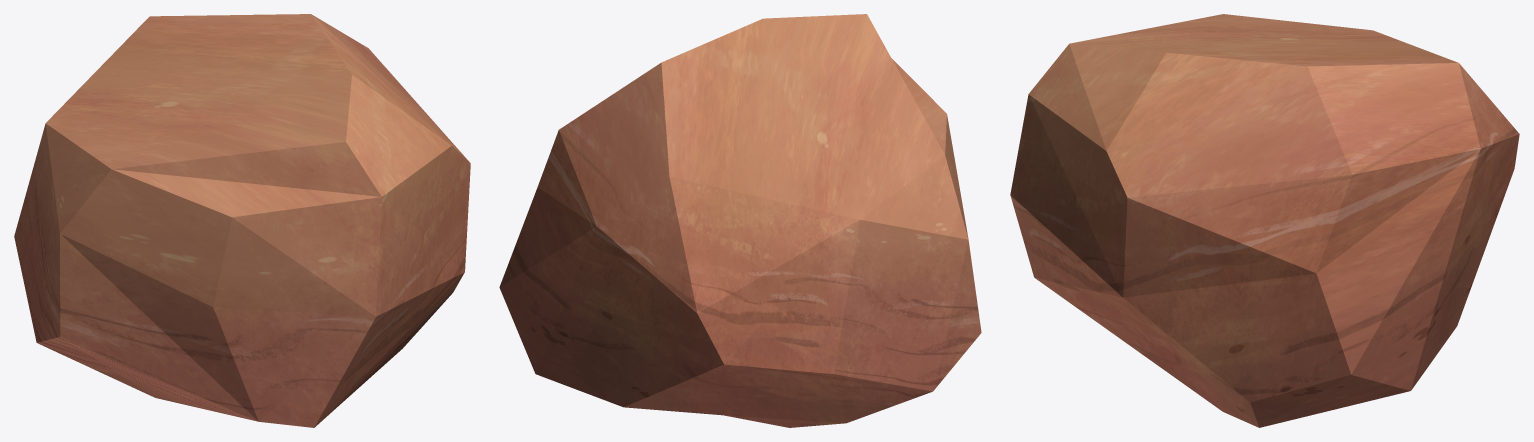
The model's file is rock_2_001.fbx.
3 views of the same model, side by side, from view 1: azimuth 30°, elevation 25°; view 2: azimuth 150°, elevation 25°; view 3: azimuth 270°, elevation 25° (orthographic).
Visible parts, largest first — view 1: rock 2.001; view 2: rock 2.001; view 3: rock 2.001.
Boxes of the visible parts, x1=… form: rock 2.001: x1=14, y1=14, x2=470, y2=427; rock 2.001: x1=499, y1=14, x2=981, y2=427; rock 2.001: x1=1010, y1=14, x2=1519, y2=427.
Size of the model in its own units: 932 by 747 by 976.
